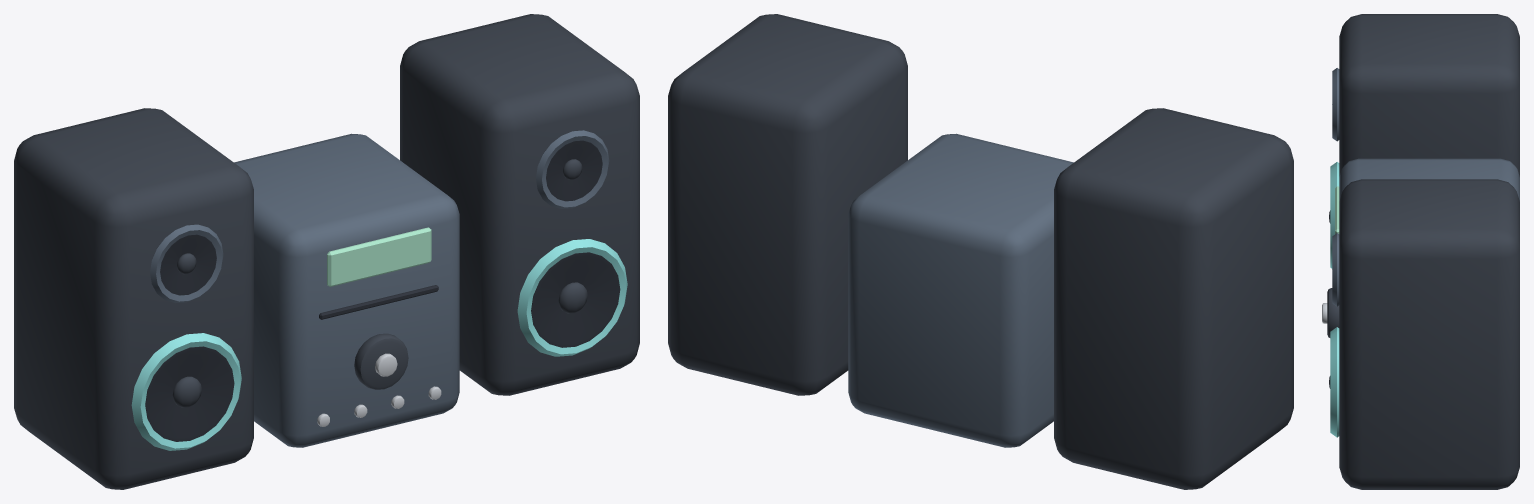
Rendered from som_micro_system.glb.
The picture shows the model from 3 angles, left to right: view 1: azimuth 30°, elevation 25°; view 2: azimuth 150°, elevation 25°; view 3: azimuth 270°, elevation 25°; orthographic projection. The views are drawn at different scales.
Parts seen in each view (by area): view 1: som_micro_system; view 2: som_micro_system; view 3: som_micro_system.
Boxes of the visible parts, x1,y1,x2,y2 form: som_micro_system: (14, 14, 639, 489); som_micro_system: (668, 14, 1293, 489); som_micro_system: (1322, 14, 1519, 489).
Size of the model in its own units: 0.73 by 0.38 by 0.263.
Materials: 1 (1 with a texture image).
